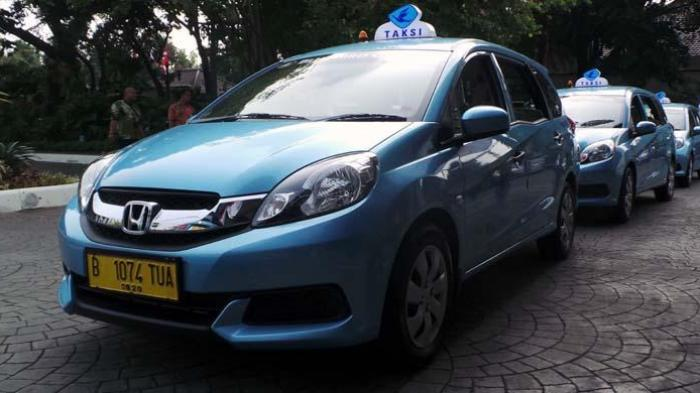plate: (86, 250, 179, 302)
